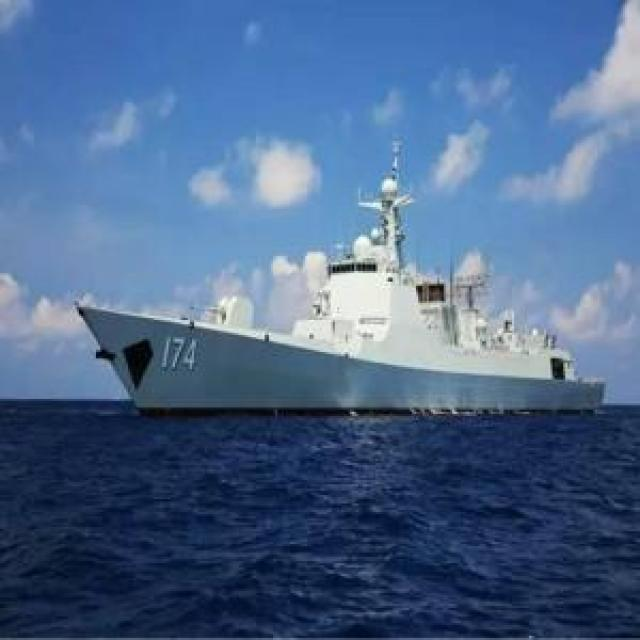navalvessels: (67, 164, 613, 429)
